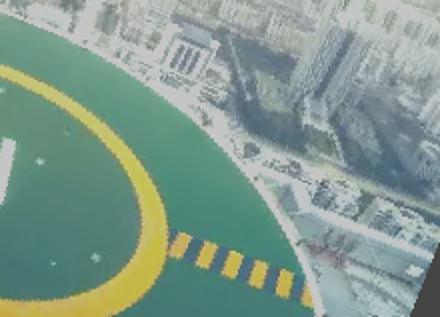Apron: (1, 58, 195, 313)
